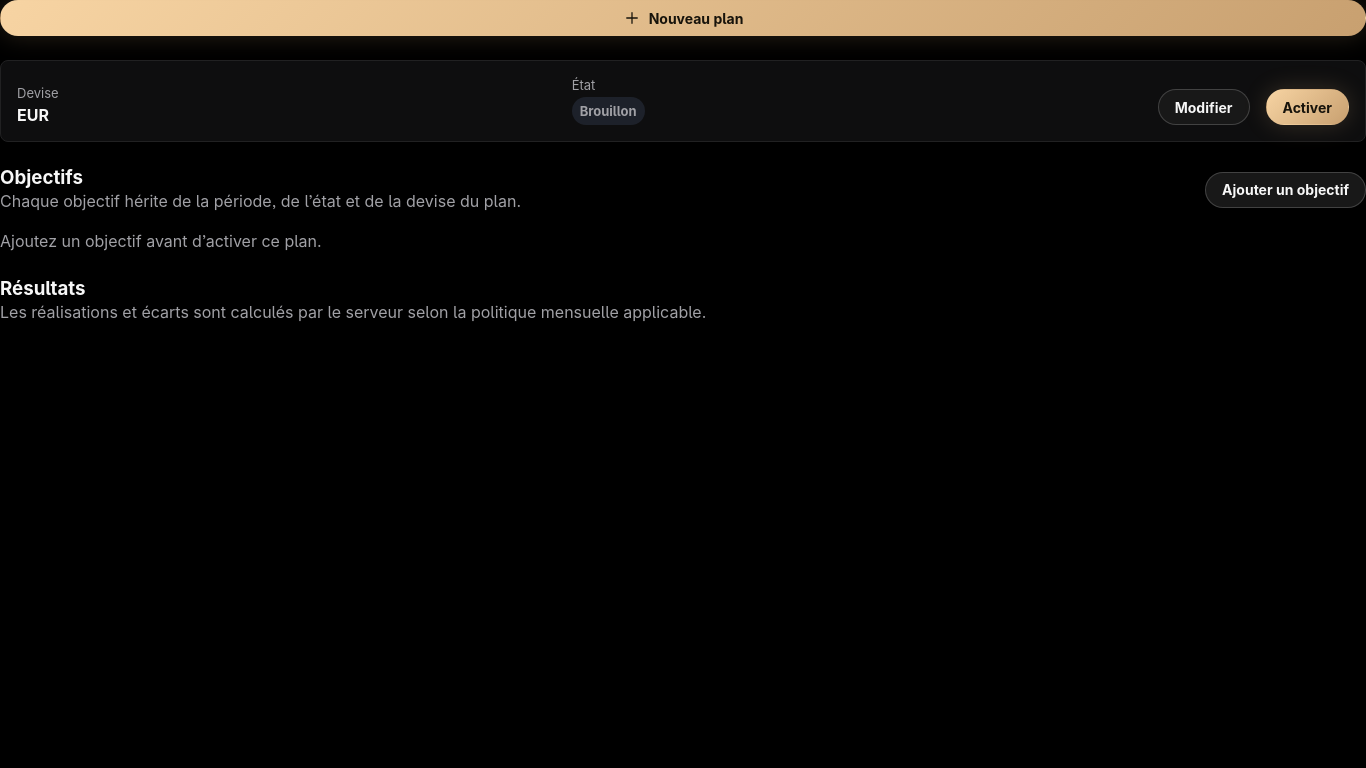
Test: BudgetPage › explains that a ratio target is entered as an exact decimal ratio
Click the button "Ajouter un objectif". click: click(1286, 190)
box: x1=1205 y1=172 x2=1365 y2=208
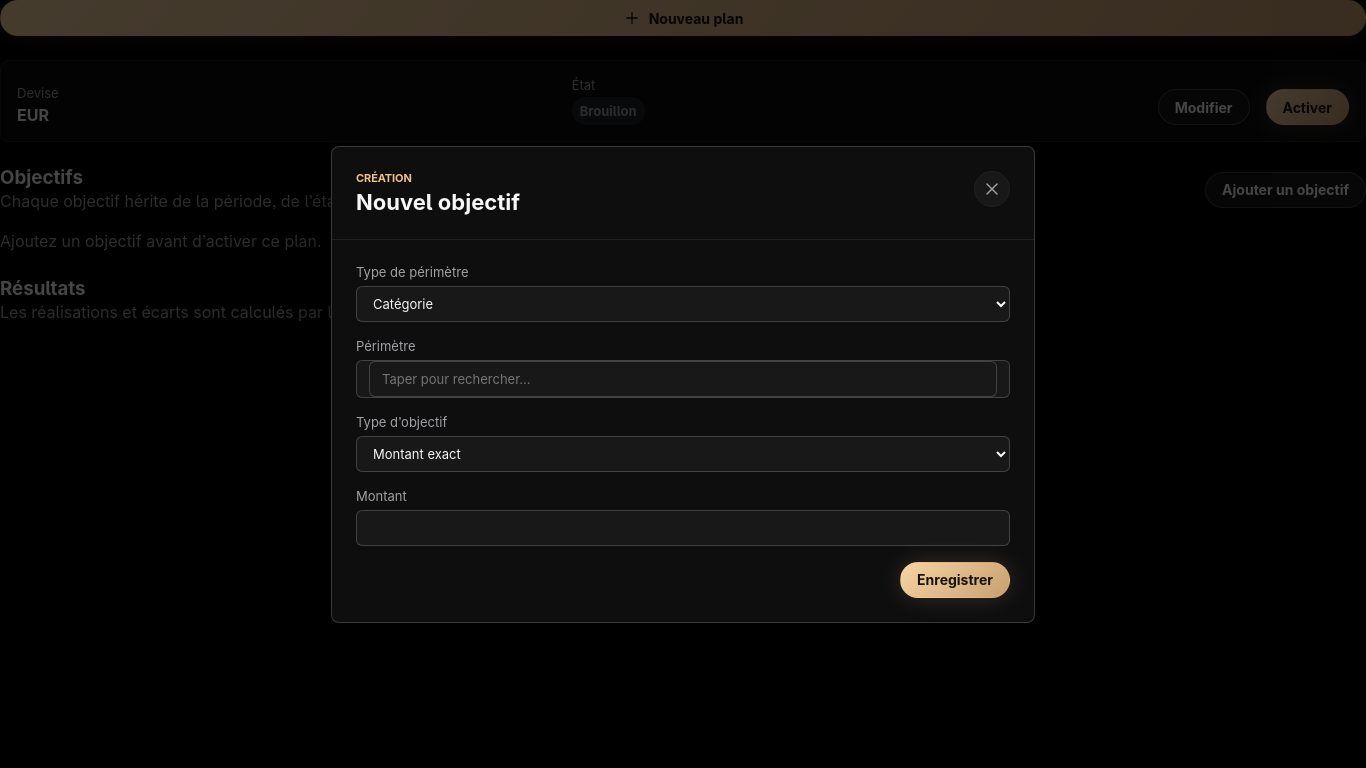
Select "Ratio" in the dropdown labelled "Type d’objectif". click: (683, 454)
box: x1=356 y1=436 x2=1010 y2=472
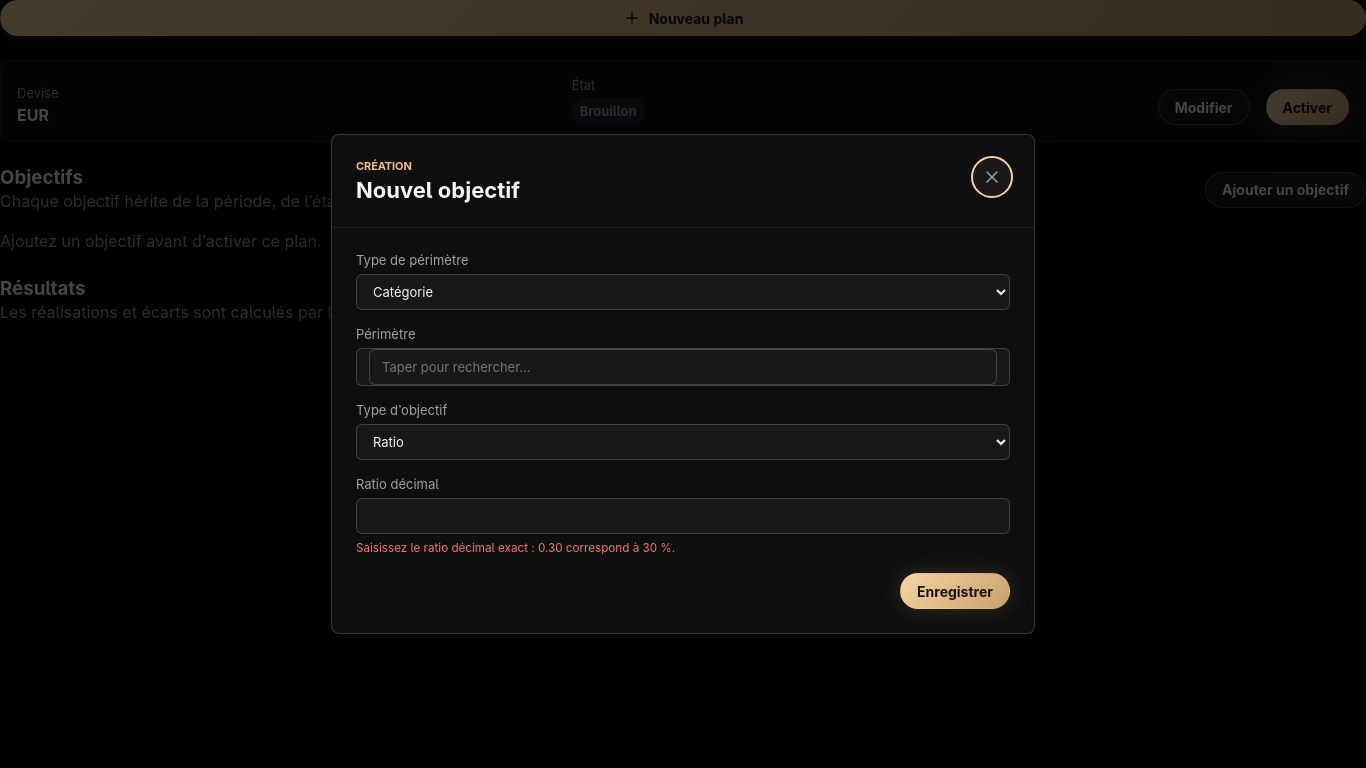
Now the text "Saisissez le ratio décimal exact : 0.30 correspond à 30 %." is shown, box x1=356 y1=541 x2=675 y2=555
